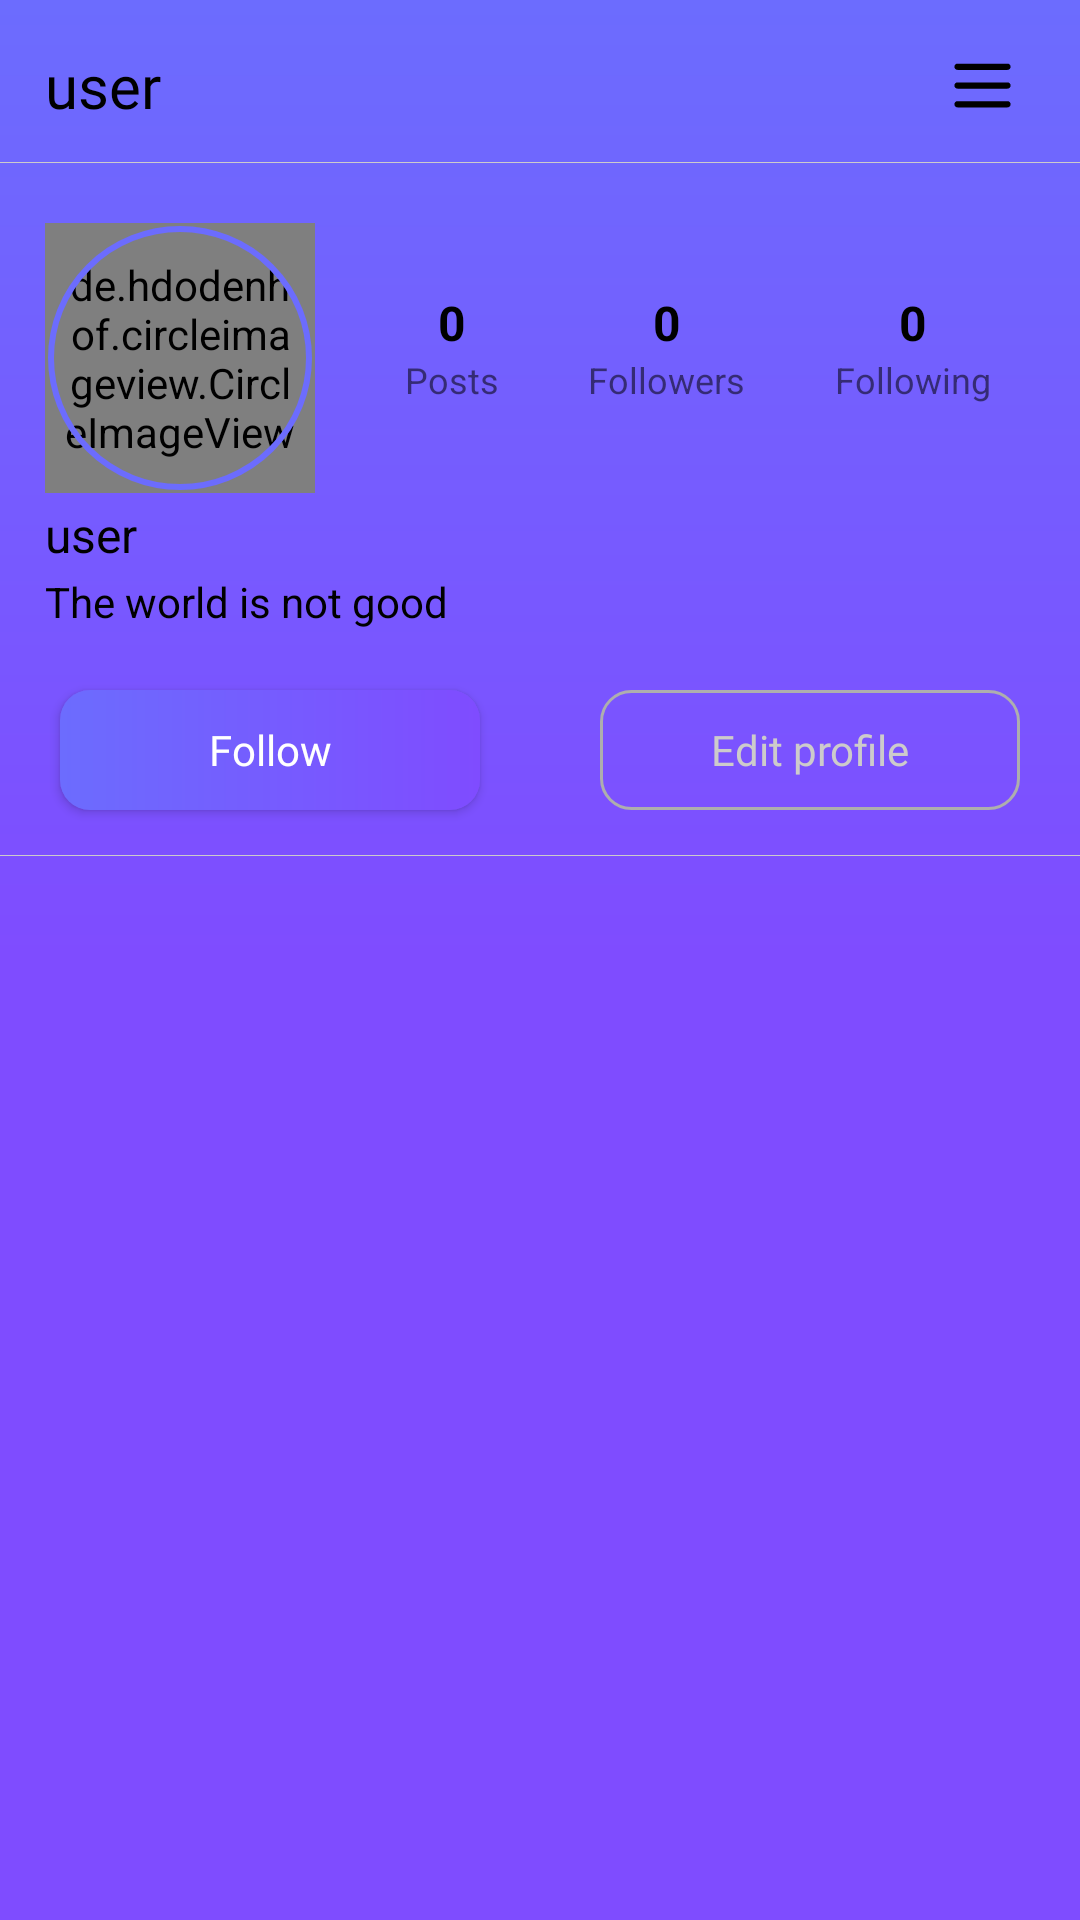

Icons on this 1080px x 1920px Android screen, each with its box as (x1, y1, x2, y2):
menu: (954, 63, 1011, 108)
